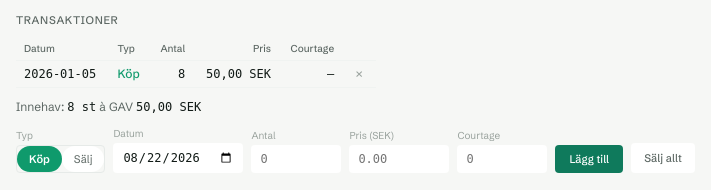
TransactionsPanel › Sälj allt förifyller säljformuläret med hela innehavet
Click the button "Sälj allt". click: (663,158)
box: [631,142,695,172]
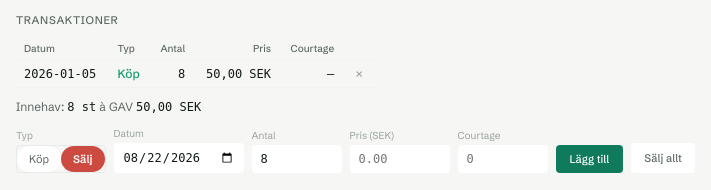
expect the button "Sälj" is shown: met, box [61,146,104,172]
expect the number field labelled "Antal" holds "8": met, box [252,144,342,172]
